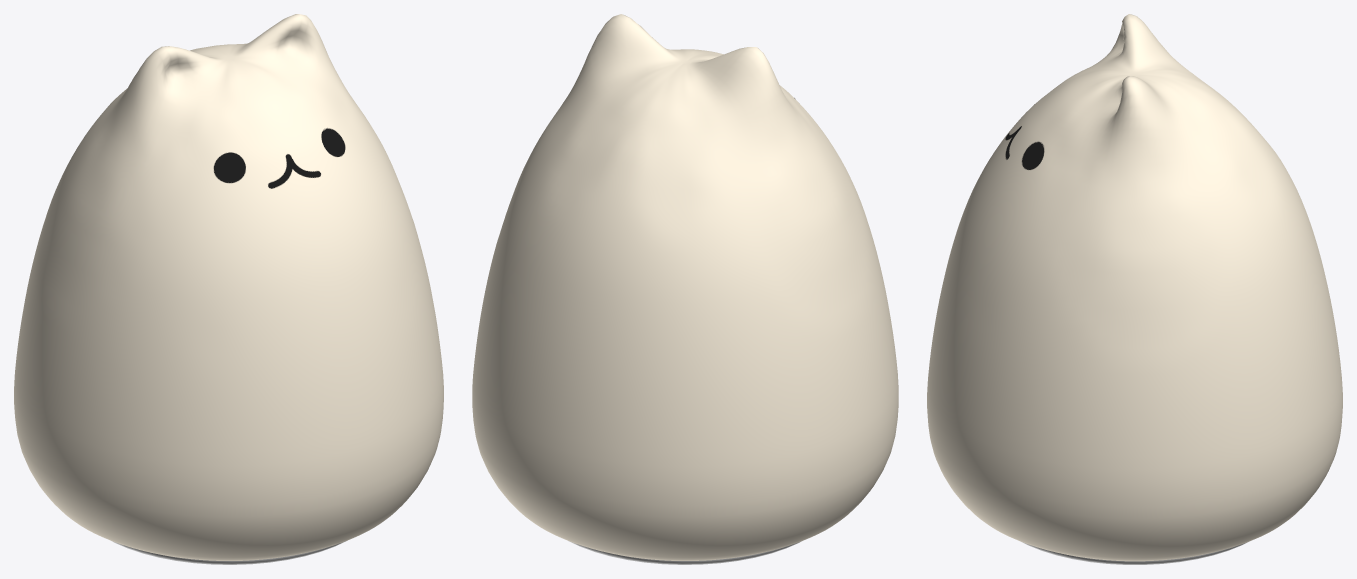
File: gato.glb
3 renders of one model, left to right at view 1: azimuth 30°, elevation 25°; view 2: azimuth 150°, elevation 25°; view 3: azimuth 270°, elevation 25°, orthographic. The views are drawn at different scales.
Visible parts, largest first — view 1: Body_Untitled, Base_Untitled.001; view 2: Body_Untitled, Base_Untitled.001; view 3: Body_Untitled, Base_Untitled.001.
Boxes of the visible parts, x1,y1,x2,y2 form: Body_Untitled: (14, 14, 443, 560); Base_Untitled.001: (112, 540, 347, 564); Body_Untitled: (472, 14, 898, 560); Base_Untitled.001: (568, 541, 801, 564); Body_Untitled: (927, 14, 1342, 561); Base_Untitled.001: (1022, 542, 1247, 564).
Bounding box in the file's own units: 3.95 × 4.83 × 3.95.
4 materials, 2 textured.
